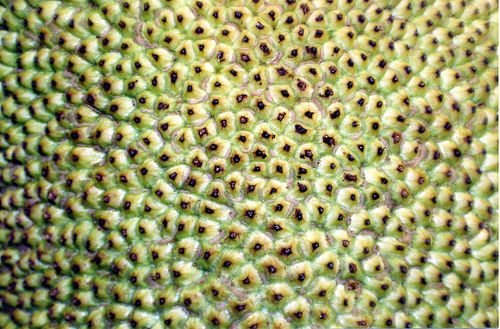jackfruit: (2, 0, 497, 328)
